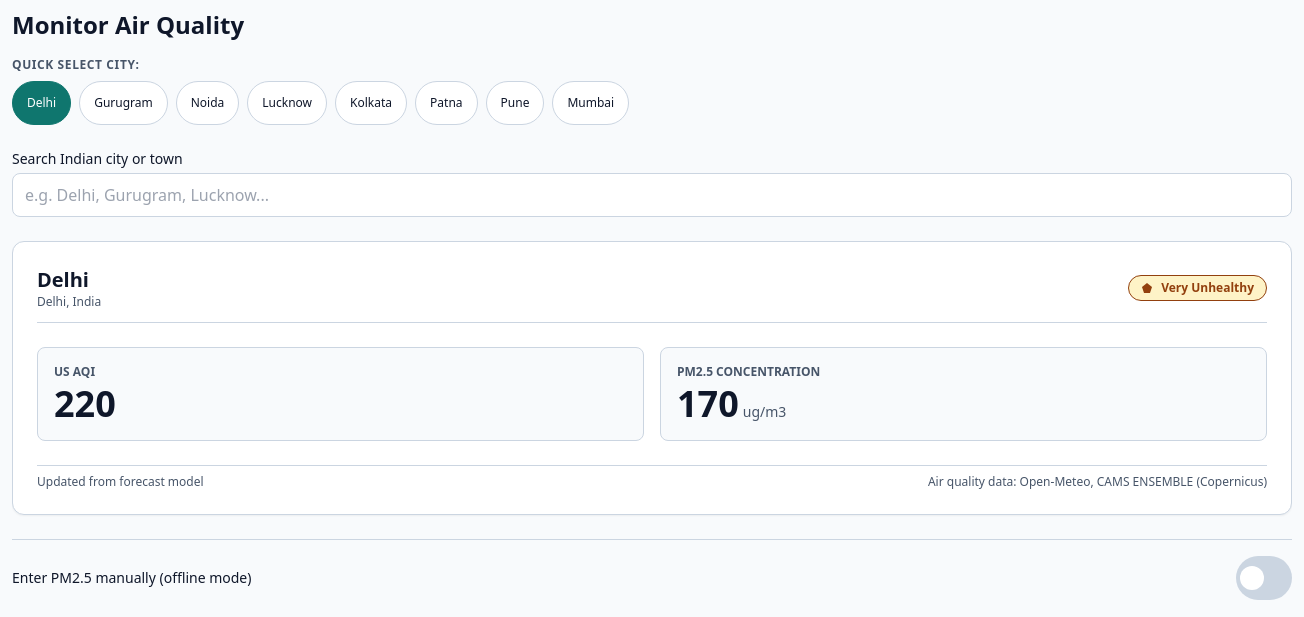
Test case: LocationPanel Component › displays search results and allows selecting a city
Later steps or results of the test are not shown.
Type "Fari" into the dropdown at x=652, y=195, box [12,173,1292,217]
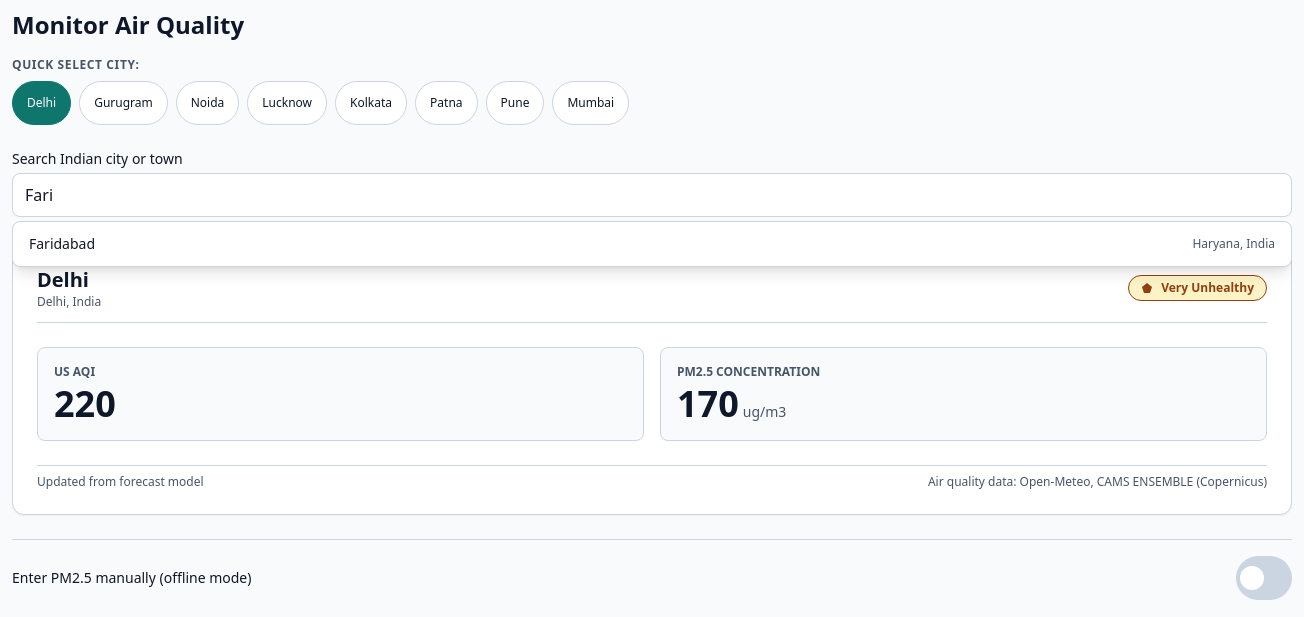
expect the text "Faridabad" is shown: met, box [29,234,95,254]
